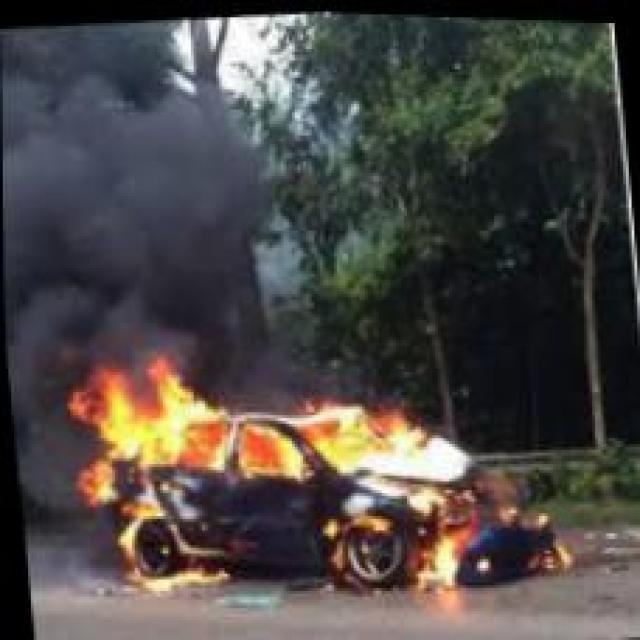Fire: (384, 441, 576, 594), (216, 360, 438, 490), (56, 444, 233, 600), (62, 346, 230, 473)
Smoke: (0, 3, 317, 378)
